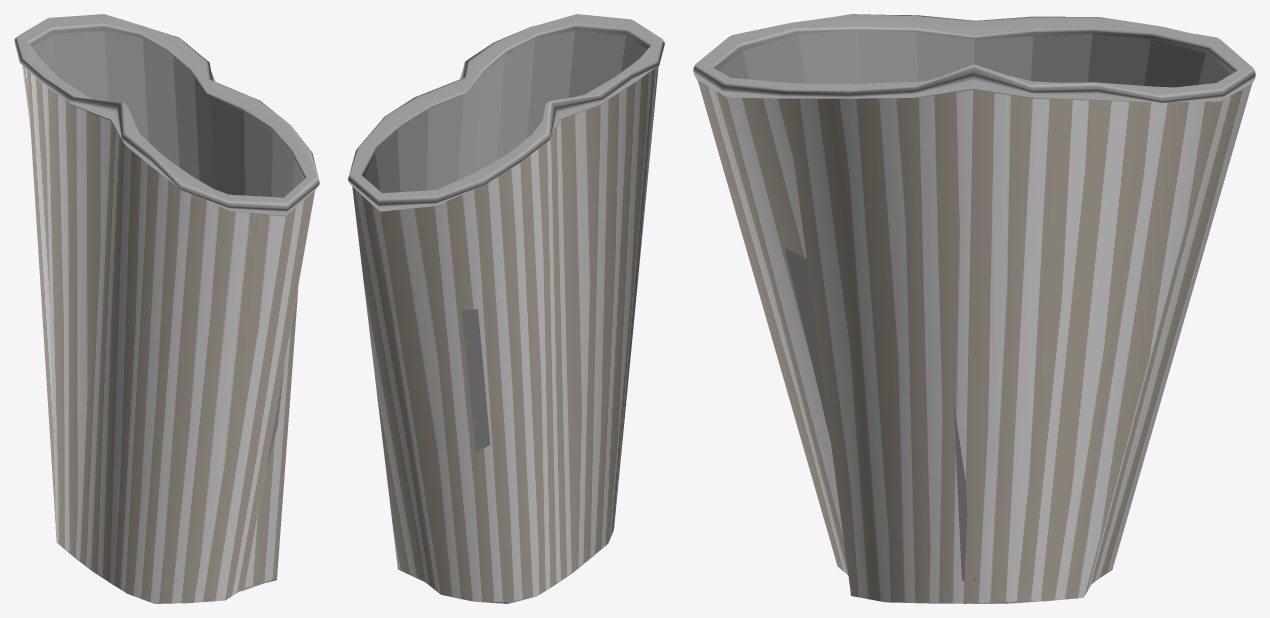
Rendered from Cup_Squashed_2.fbx.
3 views of the same model, side by side, from view 1: azimuth 30°, elevation 25°; view 2: azimuth 150°, elevation 25°; view 3: azimuth 270°, elevation 25° (orthographic). The views are drawn at different scales.
Parts seen in each view (by area): view 1: polySurface20; view 2: polySurface20; view 3: polySurface20.
Boxes of the visible parts, x1,y1,x2,y2 form: polySurface20: (14,14,319,603); polySurface20: (348,14,664,603); polySurface20: (693,14,1255,603).
Size of the model in its own units: 3.29 by 10.64 by 10.22.
Materials: 2 (1 with a texture image).
